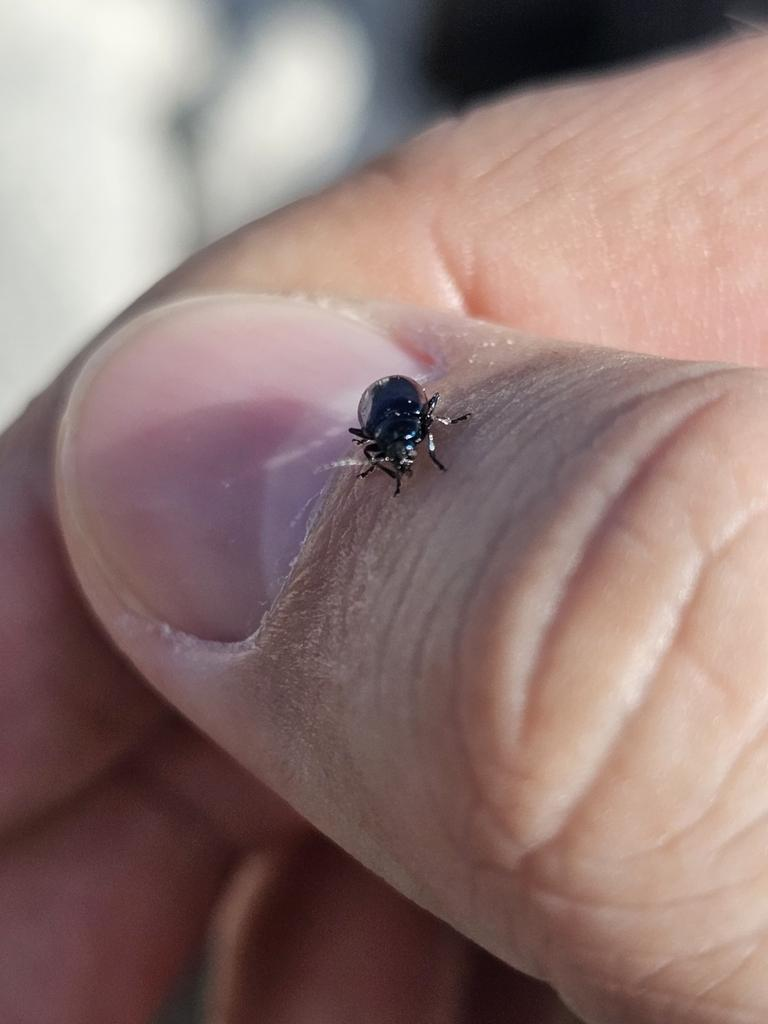flea_beetle: (300, 320, 499, 527)
